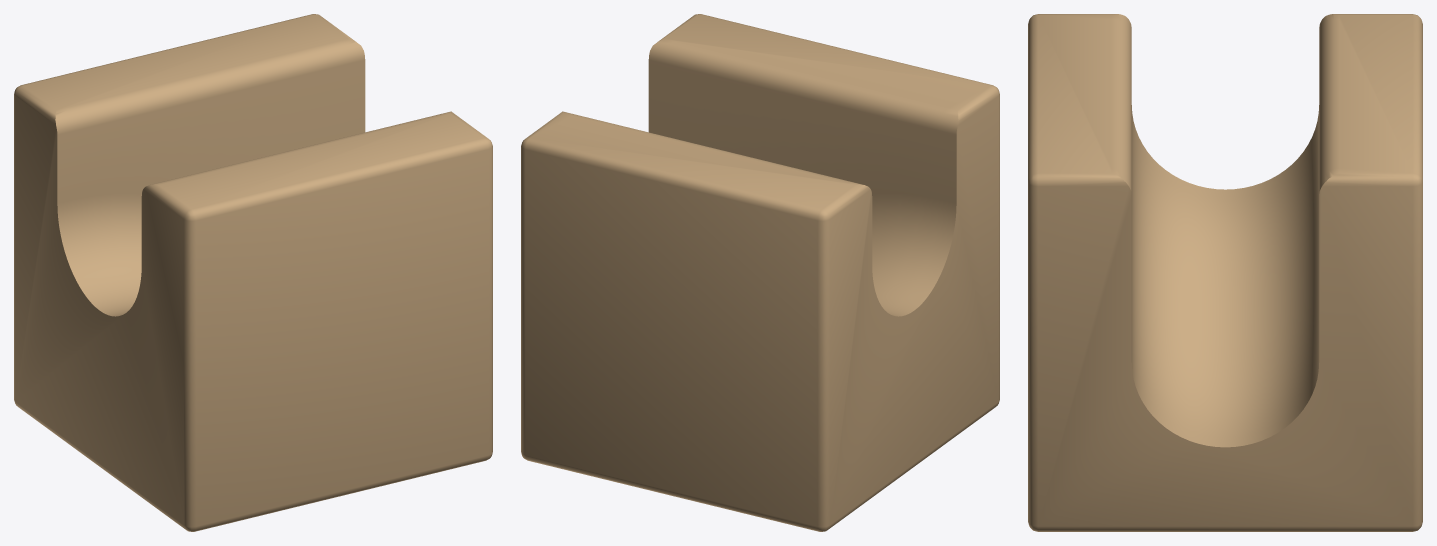
The model's file is blk_slope_gentle_l2.glb.
The picture shows the model from 3 angles, left to right: view 1: azimuth 30°, elevation 25°; view 2: azimuth 150°, elevation 25°; view 3: azimuth 270°, elevation 25°; orthographic projection. The views are drawn at different scales.
Parts seen in each view (by area): view 1: blk_slope_gentle_l2_lod0; view 2: blk_slope_gentle_l2_lod0; view 3: blk_slope_gentle_l2_lod0.
Boxes of the visible parts, x1,y1,x2,y2 form: blk_slope_gentle_l2_lod0: [14, 14, 492, 531]; blk_slope_gentle_l2_lod0: [521, 14, 999, 531]; blk_slope_gentle_l2_lod0: [1028, 14, 1422, 531].
Size of what is drawn, in the model's own units: 0.059 by 0.059 by 0.059.
